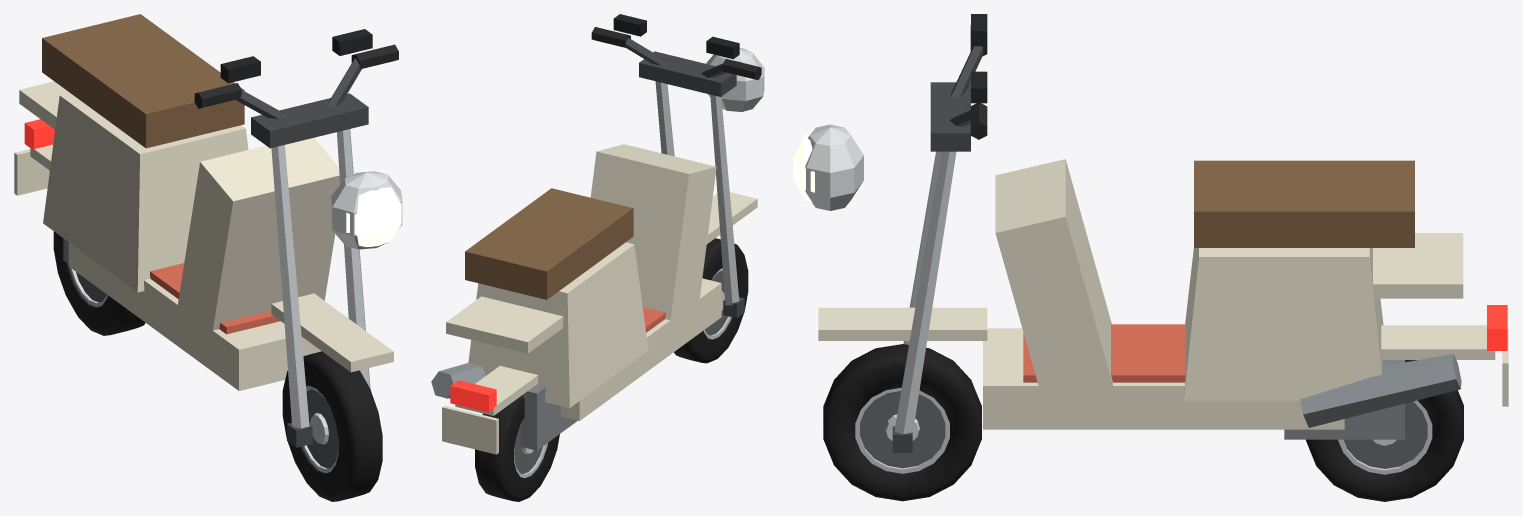
Rendered from daisy-scooter-norider.glb.
3 renders of one model, left to right at view 1: azimuth 30°, elevation 25°; view 2: azimuth 150°, elevation 25°; view 3: azimuth 270°, elevation 25°, orthographic. The views are drawn at different scales.
Visible parts, largest first — view 1: frame, fork, wheel_F, headlight, wheel_R, plate_R, taillight; view 2: frame, fork, wheel_R, wheel_F, plate_R, headlight, taillight; view 3: frame, wheel_F, fork, wheel_R, headlight, taillight.
Boxes of the visible parts, box(x1,y1,x2,y2) form: frame: box(19, 14, 339, 390); fork: box(194, 29, 398, 447); wheel_F: box(282, 351, 382, 501); headlight: box(331, 171, 402, 249); wheel_R: box(53, 231, 145, 335); plate_R: box(14, 149, 49, 195); taillight: box(24, 119, 54, 148); frame: box(431, 144, 721, 450); fork: box(591, 14, 761, 318); wheel_R: box(475, 395, 559, 501); wheel_F: box(674, 238, 748, 363); plate_R: box(442, 405, 498, 454); headlight: box(706, 48, 764, 111); taillight: box(450, 380, 496, 412); frame: box(983, 159, 1495, 439); wheel_F: box(823, 344, 981, 501); fork: box(818, 14, 987, 452); wheel_R: box(1306, 360, 1463, 501); headlight: box(793, 124, 863, 210); taillight: box(1487, 305, 1507, 350).
Bounding box in the file's own units: 0.5996 × 1.22 × 1.78.
